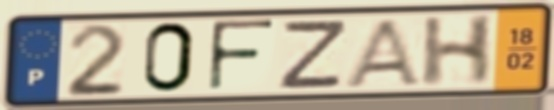0: (141, 20, 197, 96)
2: (66, 21, 126, 99)
A: (340, 16, 426, 88)
F: (205, 18, 278, 95)
H: (418, 12, 499, 90)
Z: (275, 17, 352, 92)
